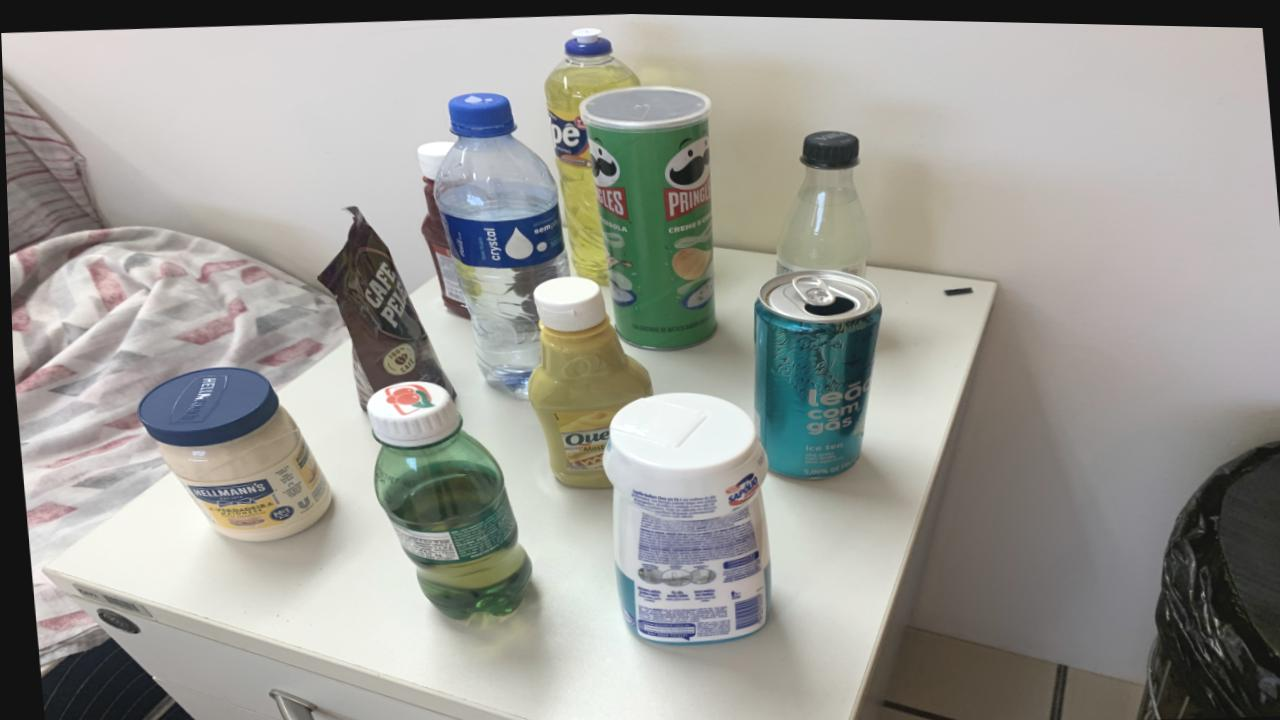Cleaner-Cleanup_Items: (599, 389, 767, 641)
Coffee-Pantry_Items: (315, 205, 452, 406)
Detergent-Cleanup_Items: (544, 25, 639, 283)
Guarana-Drinks: (363, 379, 527, 617)
Ketchup-Pantry_Items: (415, 140, 468, 316)
Mayonnaise-Pantry_Items: (134, 365, 328, 540)
Mustard-Pantry_Items: (524, 274, 649, 486)
Pringles-Snacks: (579, 83, 714, 347)
Soda-Drinks: (774, 126, 868, 274)
Tea-Drinks: (750, 266, 878, 475)
Water_Bottle-Drinks: (432, 91, 567, 395)
